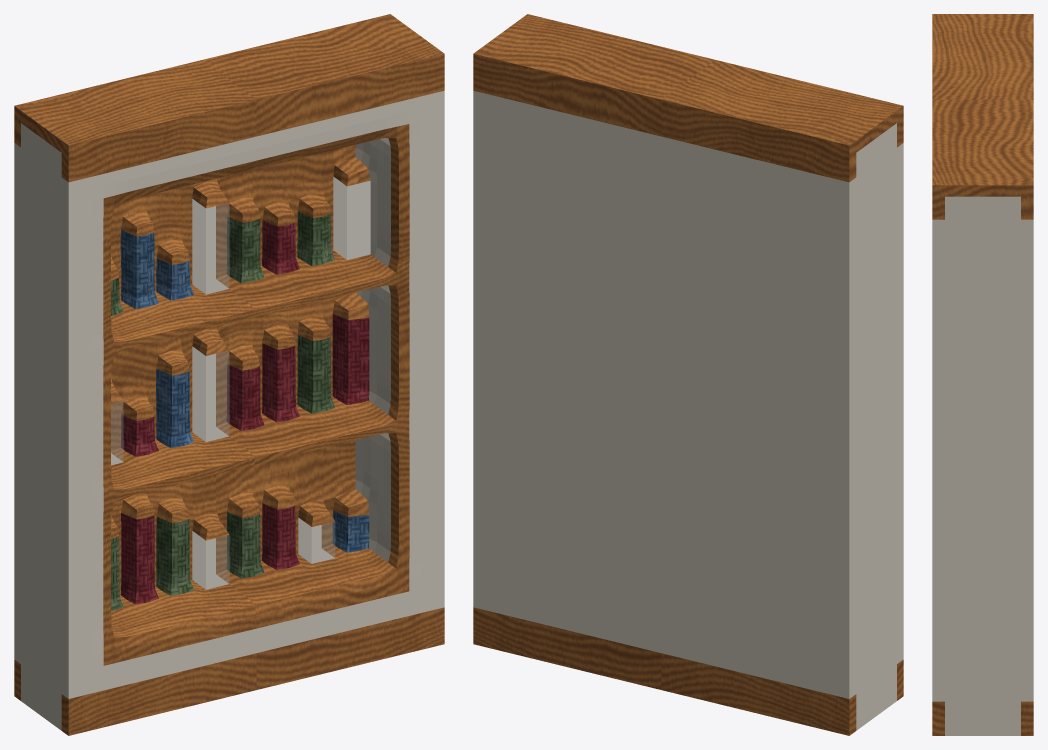
Rendered from wall_in_apothecary.glb.
3 views of the same model, side by side, from view 1: azimuth 30°, elevation 25°; view 2: azimuth 150°, elevation 25°; view 3: azimuth 270°, elevation 25° (orthographic). The views are drawn at different scales.
Visible parts, largest first — view 1: town_wall_in_apothecary; view 2: town_wall_in_apothecary; view 3: town_wall_in_apothecary.
Boxes of the visible parts, x1,y1,x2,y2 form: town_wall_in_apothecary: [14, 14, 444, 735]; town_wall_in_apothecary: [473, 14, 903, 735]; town_wall_in_apothecary: [932, 14, 1033, 735].
Size of the model in its own units: 1 by 1.5 by 0.25.
Materials: 3 (1 with a texture image).
